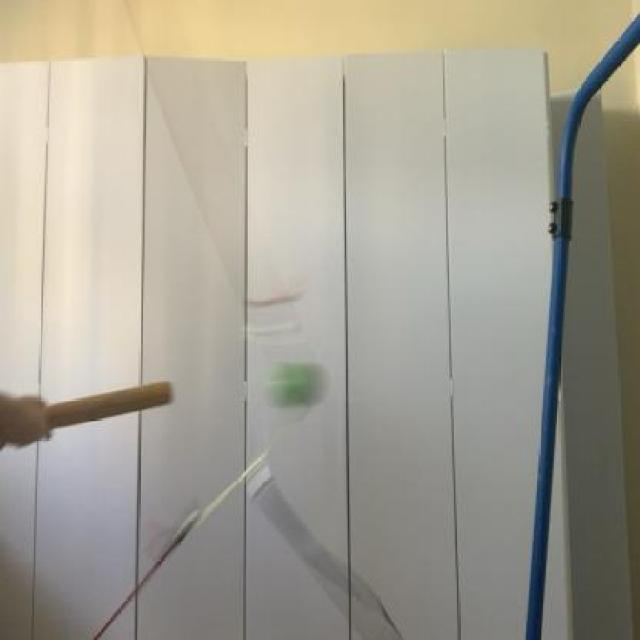baseball: (262, 349, 324, 411)
